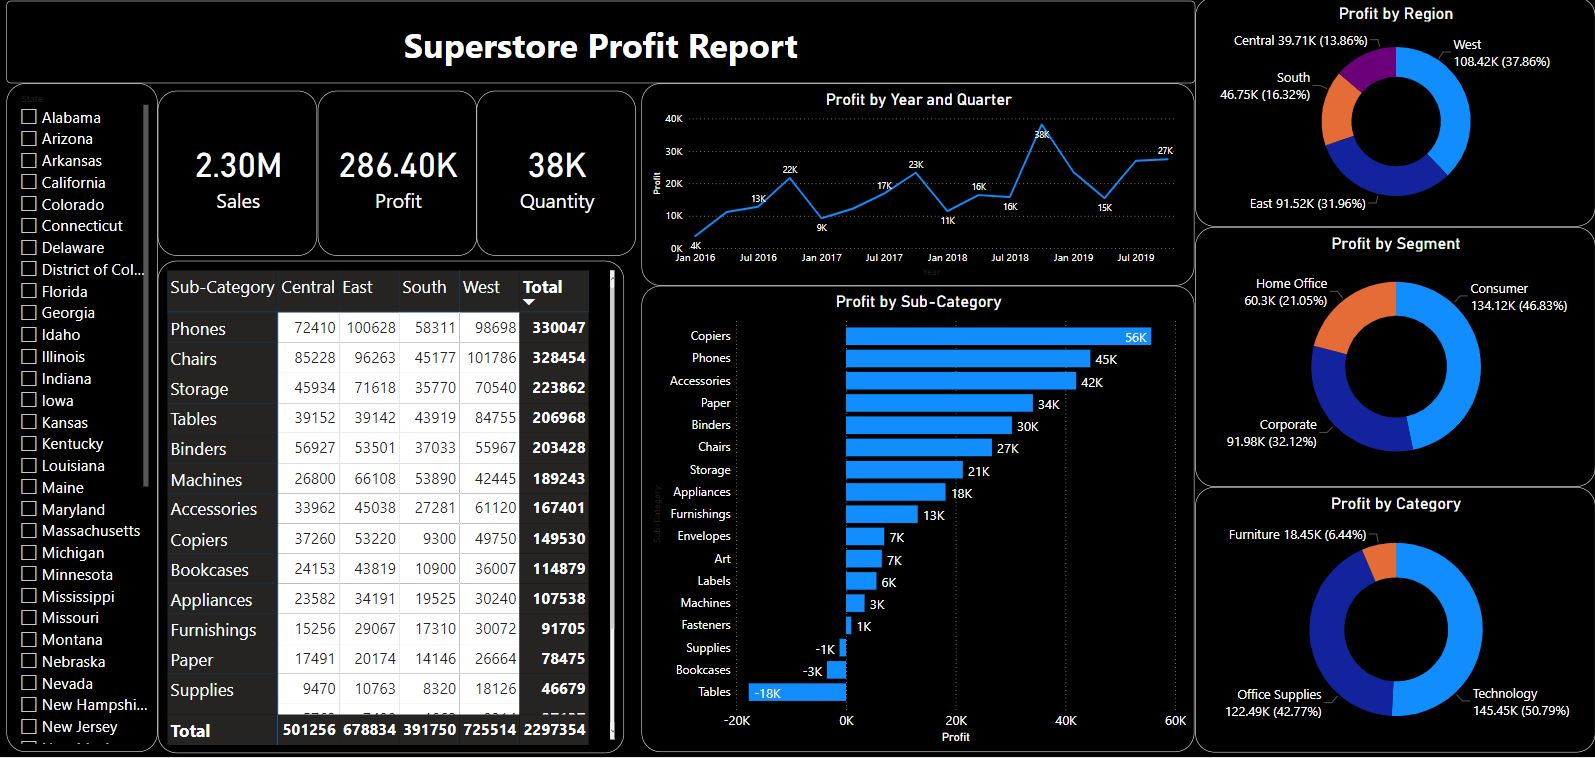

What the dashboard file says about the page in this screenshot:
{"tool":"powerbi","page":{"name":"Report","canvas":[2500,1187],"ordinal":0},"visuals":[{"type":"textbox","box":[19.3,6.4,1855.7,128.9],"z":0},{"type":"donutChart","fields":{"Category":["Orders.Category"],"Y":["Sum(Orders.Profit)"]},"box":[1875,764.6,625,414.5],"z":1000},{"type":"donutChart","fields":{"Category":["Orders.Segment"],"Y":["Sum(Orders.Profit)"]},"box":[1875,358.7,625,405.9],"z":2000},{"type":"donutChart","fields":{"Category":["Orders.Region"],"Y":["Sum(Orders.Profit)"]},"box":[1875,0,625,358.7],"z":3000},{"type":"barChart","fields":{"Category":["Orders.Sub-Category"],"Y":["Sum(Orders.Profit)"]},"box":[1011.6,451,863.4,728.1],"z":4000},{"type":"lineChart","fields":{"Category":["Orders.Order Date.Variation.Date Hierarchy.Year","Orders.Order Date.Variation.Date Hierarchy.Quarter","Orders.Order Date.Variation.Date Hierarchy.Month","Orders.Order Date.Variation.Date Hierarchy.Day"],"Y":["Sum(Orders.Profit)"]},"box":[1011.6,135.3,863.4,315.7],"z":5000},{"type":"slicer","fields":{"Values":["Orders.State"]},"box":[19.3,135.3,236.3,1043.8],"z":6000},{"type":"pivotTable","fields":{"Rows":["Orders.Sub-Category"],"Columns":["Orders.Region"],"Values":["Sum(Orders.Sales)"]},"box":[255.6,412.4,728.1,768.9],"z":7000},{"type":"card","fields":{"Values":["Sum(Orders.Sales)"]},"box":[255.6,146,249.1,257.7],"z":8000},{"type":"card","fields":{"Values":["Sum(Orders.Profit)"]},"box":[504.7,146,249.1,257.7],"z":9000},{"type":"card","fields":{"Values":["Sum(Orders.Quantity)"]},"box":[753.9,146,249.1,257.7],"z":10000}]}

Visuals, with their boxes in screenshot pixels (x1, y1, x2, y2), scaled from the page's 2500x1187 canvas onto the 1595x758 screenshot:
textbox: left=12, top=4, right=1196, bottom=86
donutChart - Orders.Category x Sum(Orders.Profit): left=1196, top=488, right=1594, bottom=753
donutChart - Orders.Segment x Sum(Orders.Profit): left=1196, top=229, right=1594, bottom=488
donutChart - Orders.Region x Sum(Orders.Profit): left=1196, top=0, right=1594, bottom=229
barChart - Orders.Sub-Category x Sum(Orders.Profit): left=645, top=288, right=1196, bottom=753
lineChart - Orders.Order Date.Variation.Date Hierarchy.Year x Orders.Order Date.Variation.Date Hierarchy.Quarter: left=645, top=86, right=1196, bottom=288
slicer - Orders.State: left=12, top=86, right=163, bottom=753
pivotTable - Orders.Sub-Category x Orders.Region: left=163, top=263, right=628, bottom=754
card - Sum(Orders.Sales): left=163, top=93, right=322, bottom=258
card - Sum(Orders.Profit): left=322, top=93, right=481, bottom=258
card - Sum(Orders.Quantity): left=481, top=93, right=640, bottom=258
